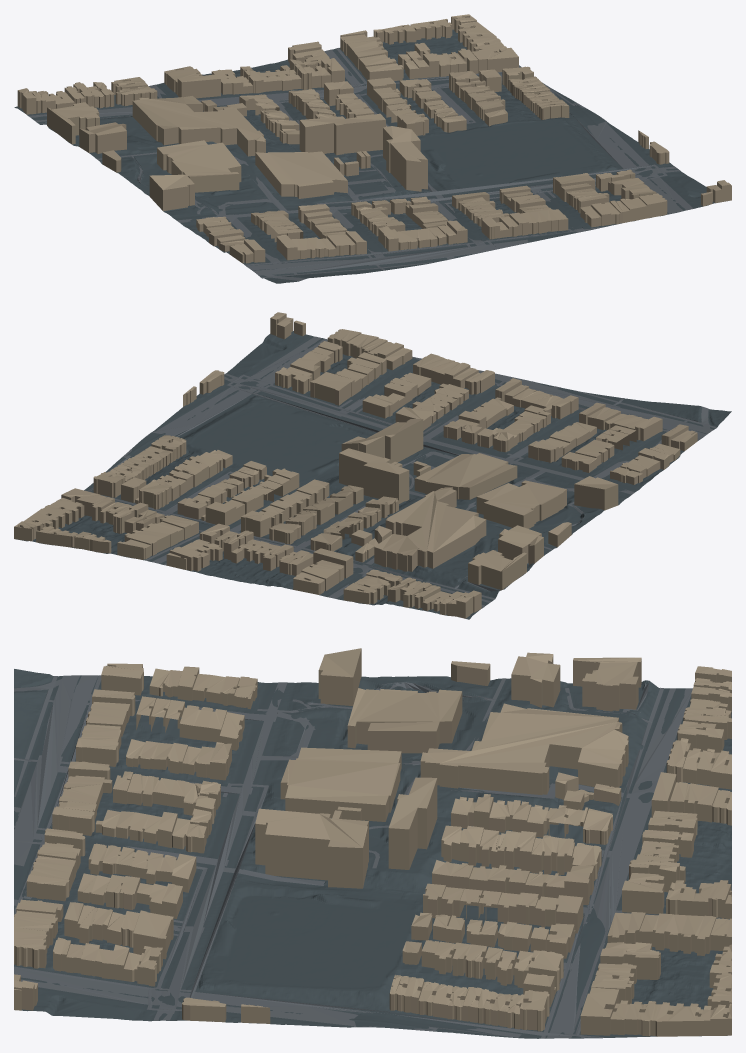
Rendered from epsg26910-1428-10888.lod0.glb.
The picture shows the model from 3 angles, top to bottom: view 1: azimuth 30°, elevation 25°; view 2: azimuth 150°, elevation 25°; view 3: azimuth 270°, elevation 25°; orthographic projection. The views are drawn at different scales.
Parts seen in each view (by area): view 1: epsg26910-1428-10888-lod0; view 2: epsg26910-1428-10888-lod0; view 3: epsg26910-1428-10888-lod0.
Boxes of the visible parts, x1,y1,x2,y2 form: epsg26910-1428-10888-lod0: [14, 14, 731, 283]; epsg26910-1428-10888-lod0: [14, 312, 731, 619]; epsg26910-1428-10888-lod0: [14, 648, 731, 1038].
Size of the model in its own units: 384 by 51.51 by 384.
